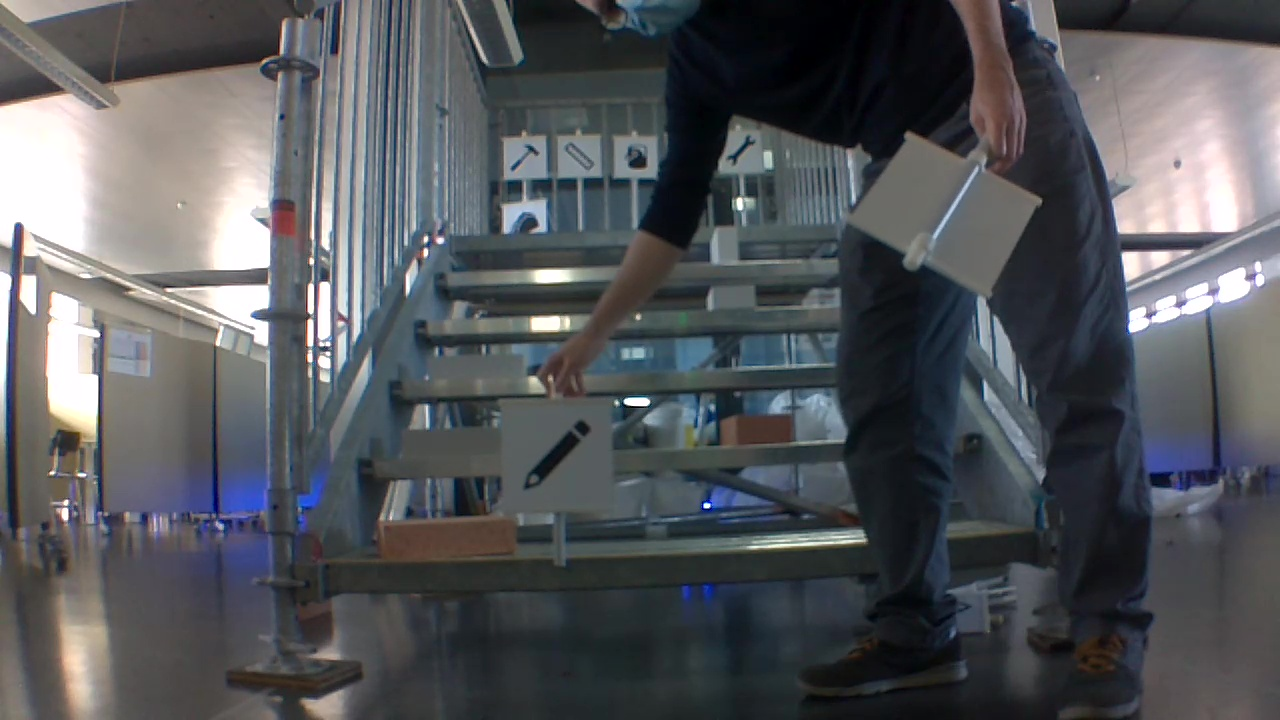brick: (377, 515, 521, 570), (400, 421, 502, 451), (721, 411, 796, 448), (428, 353, 529, 378), (708, 224, 743, 267), (708, 283, 757, 310)
bucket: (623, 141, 650, 170)
edge: (323, 544, 874, 600)
hammer: (509, 140, 540, 172)
pencil: (521, 417, 593, 489)
ruler: (563, 139, 598, 173)
taco: (513, 212, 538, 233)
wrench: (726, 133, 757, 168)
